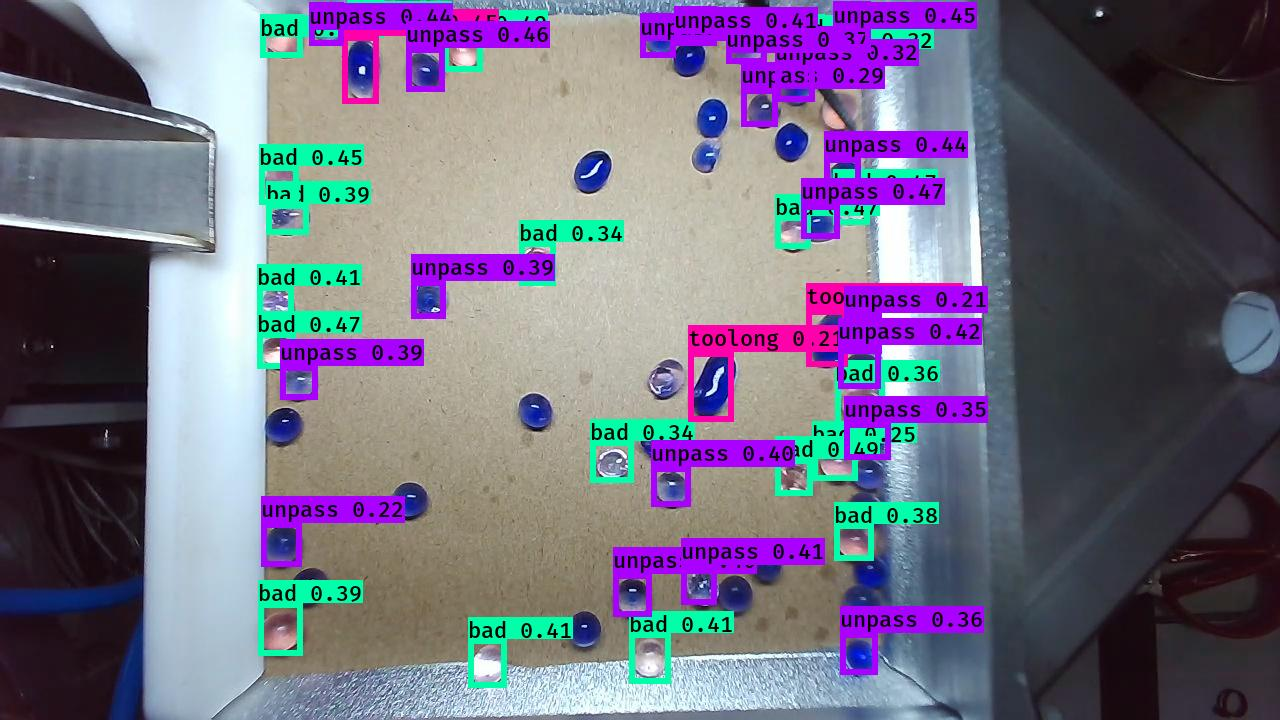bad: (256, 610, 308, 657), (259, 14, 306, 60), (837, 388, 887, 431), (469, 642, 509, 689), (833, 524, 878, 562), (629, 637, 667, 681), (345, 1, 385, 42), (261, 169, 304, 205), (521, 245, 557, 286), (817, 447, 858, 483), (775, 219, 813, 255), (775, 462, 815, 496), (261, 334, 298, 370), (259, 290, 296, 326), (835, 51, 872, 86), (447, 35, 481, 71), (595, 449, 631, 482), (836, 193, 869, 225)
defact: (688, 139, 727, 178)
pass: (570, 148, 613, 195), (639, 420, 681, 465), (263, 407, 306, 449), (390, 480, 431, 523), (745, 542, 785, 586), (840, 584, 884, 623), (404, 51, 442, 95), (291, 567, 330, 609), (409, 281, 450, 320), (844, 489, 886, 527), (565, 608, 602, 650), (717, 574, 754, 616), (838, 351, 881, 387), (517, 393, 553, 433), (774, 123, 809, 164), (845, 637, 878, 678), (695, 99, 728, 140), (672, 43, 707, 79)
toolong: (688, 347, 739, 422), (342, 37, 381, 102), (810, 310, 848, 368), (745, 89, 783, 132)
unpass: (262, 525, 304, 569), (613, 577, 654, 619), (648, 358, 686, 401), (683, 569, 721, 610), (728, 28, 768, 66), (309, 6, 347, 45), (800, 206, 840, 242), (269, 203, 310, 238), (825, 159, 863, 195), (677, 5, 712, 44), (654, 472, 690, 509), (644, 18, 677, 58), (281, 367, 319, 400), (847, 317, 882, 351)
